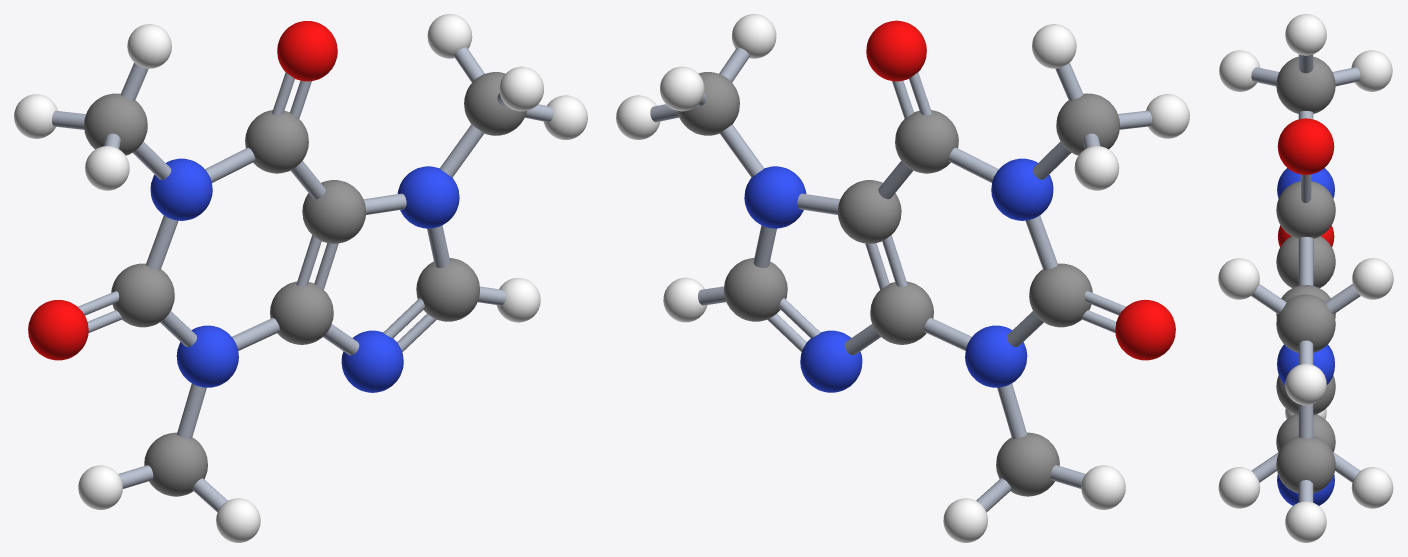
File: caffeine.glb
3 views of the same model, side by side, from view 1: azimuth 30°, elevation 25°; view 2: azimuth 150°, elevation 25°; view 3: azimuth 270°, elevation 25° (orthographic). The views are drawn at different scales.
Parts seen in each view (by area): view 1: C (×8), H (×9), N (×4), bond (×8), O (×2); view 2: C (×8), H (×9), N (×4), bond (×8), O (×2); view 3: C (×8), H (×9), bond (×12), O (×2), N (×3).
Boxes of the visible parts, left/top/right/bottom form: C (×8): left=84, top=72, right=526, bottom=496; H (×9): left=14, top=14, right=587, bottom=542; N (×4): left=150, top=158, right=459, bottom=392; bond (×8): left=132, top=124, right=483, bottom=438; O (×2): left=28, top=21, right=337, bottom=360; C (×8): left=677, top=72, right=1119, bottom=496; H (×9): left=616, top=14, right=1189, bottom=542; N (×4): left=744, top=158, right=1053, bottom=392; bond (×8): left=720, top=124, right=1071, bottom=438; O (×2): left=866, top=20, right=1175, bottom=360; C (×8): left=1276, top=56, right=1335, bottom=493; H (×9): left=1218, top=14, right=1393, bottom=542; bond (×12): left=1251, top=54, right=1360, bottom=502; O (×2): left=1277, top=118, right=1334, bottom=247; N (×3): left=1277, top=168, right=1334, bottom=505.
Size of the model in its own units: 0.22 by 0.1907 by 0.065.
